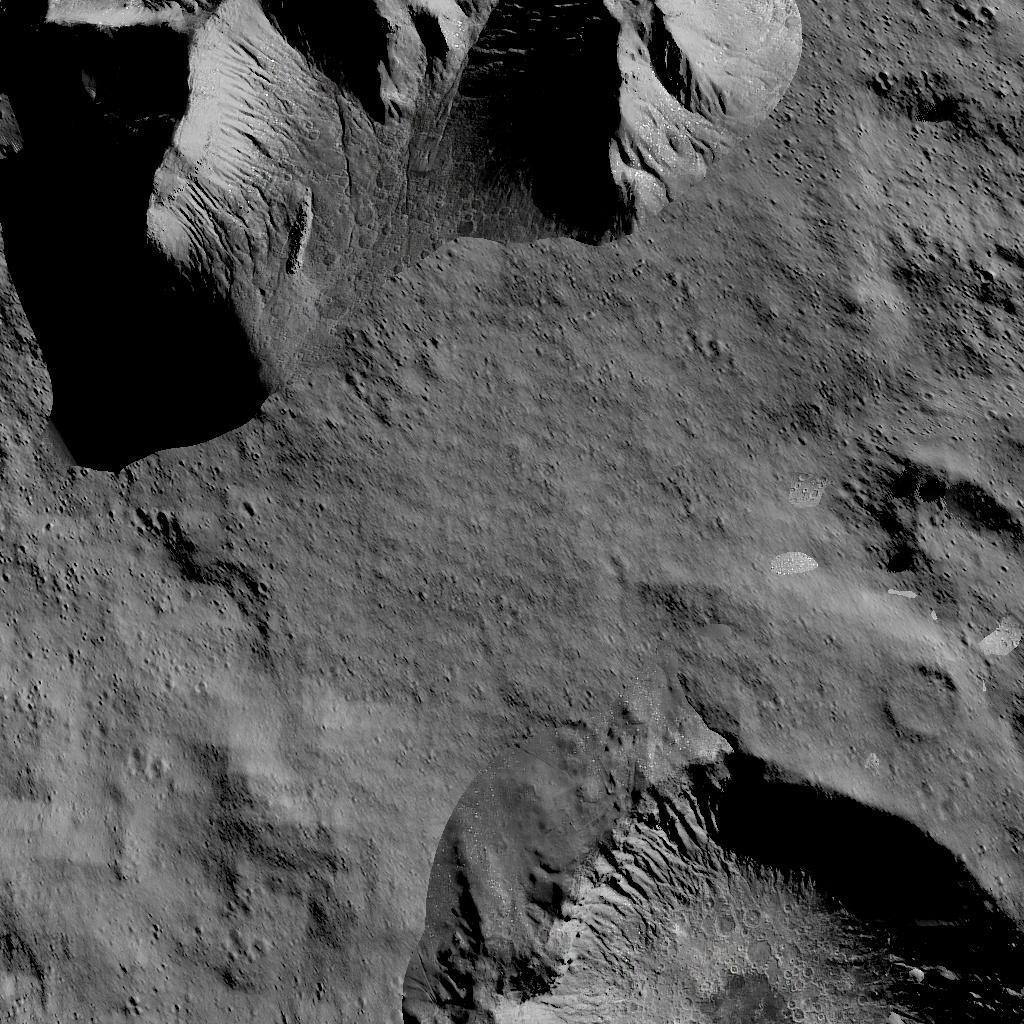Boulders: (24, 0, 802, 469)
Crater: (443, 704, 1024, 1024), (861, 438, 1024, 634), (0, 930, 56, 1024)
Plan surface: (5, 494, 417, 904), (831, 0, 1024, 418), (440, 488, 836, 674), (84, 926, 404, 1024)
